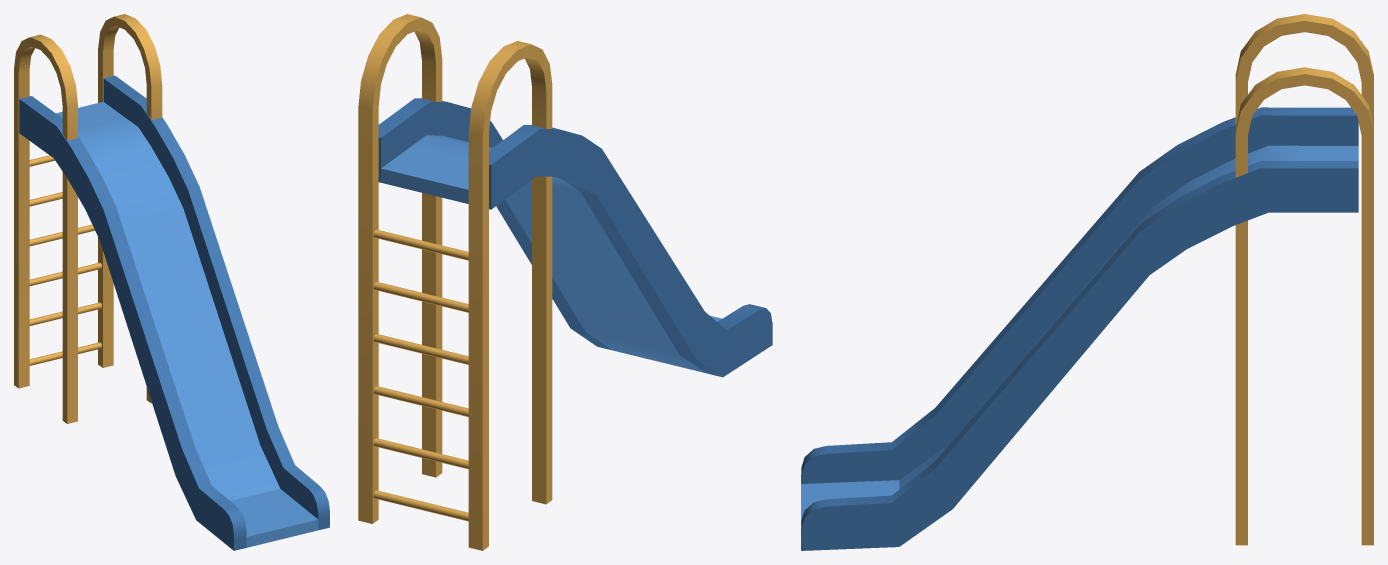
Rendered from Slide_05.fbx.
3 renders of one model, left to right at view 1: azimuth 30°, elevation 25°; view 2: azimuth 150°, elevation 25°; view 3: azimuth 270°, elevation 25°, orthographic. The views are drawn at different scales.
Parts seen in each view (by area): view 1: Slide_05; view 2: Slide_05; view 3: Slide_05.
Part boxes in pixels (x1,y1,x2,y2): Slide_05: (14,14,329,550); Slide_05: (358,14,772,550); Slide_05: (801,14,1373,550).
Bounding box in the file's own units: 0.5661 × 2.07 × 2.25.
